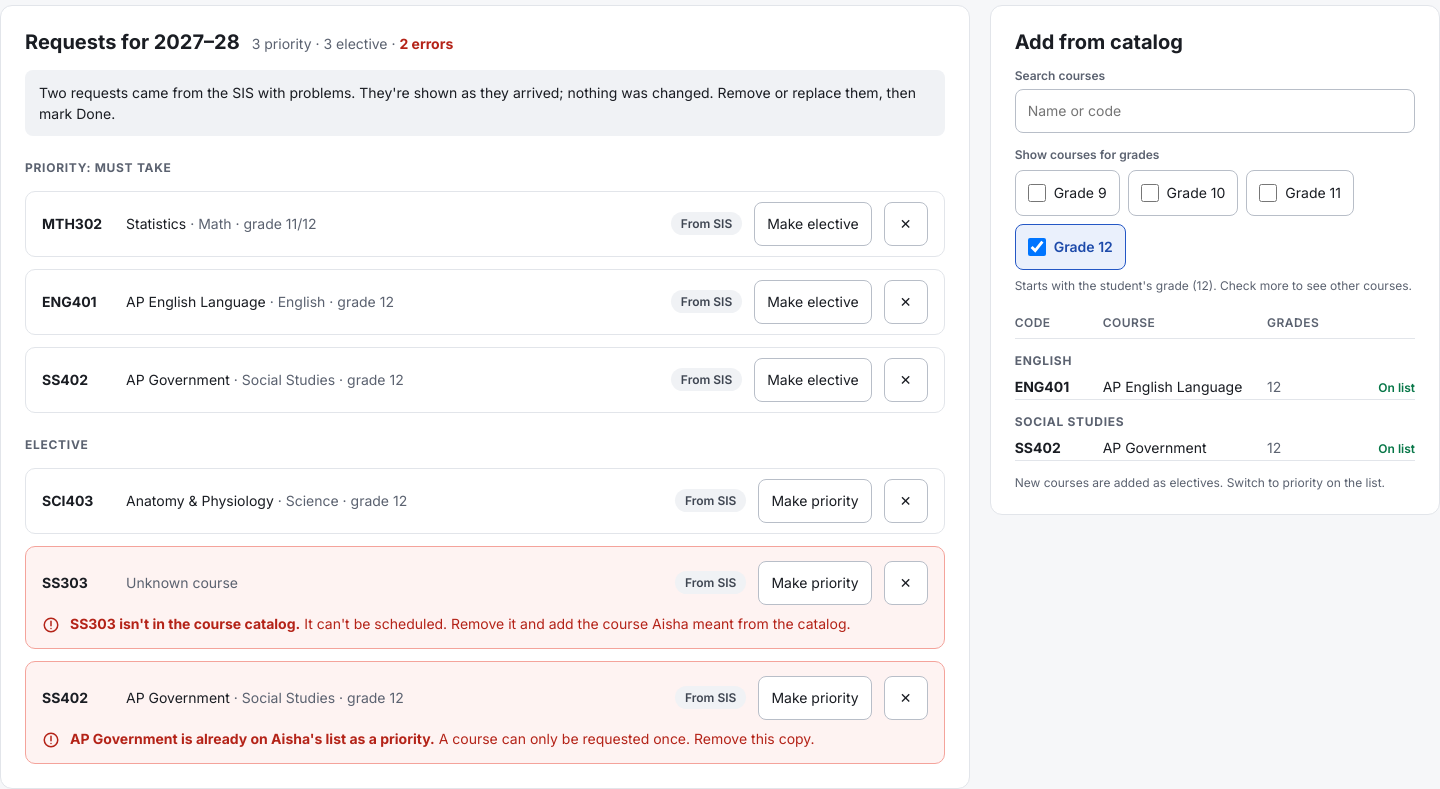
Aisha: removing the SS402 elective copy removes that row by ID and leaves 1 error
(page scrolled)
Click the button named "Remove the elective copy of SS402 AP Government".
click(906, 698)  # box x1=884 y1=676 x2=928 y2=720
(page scrolled)
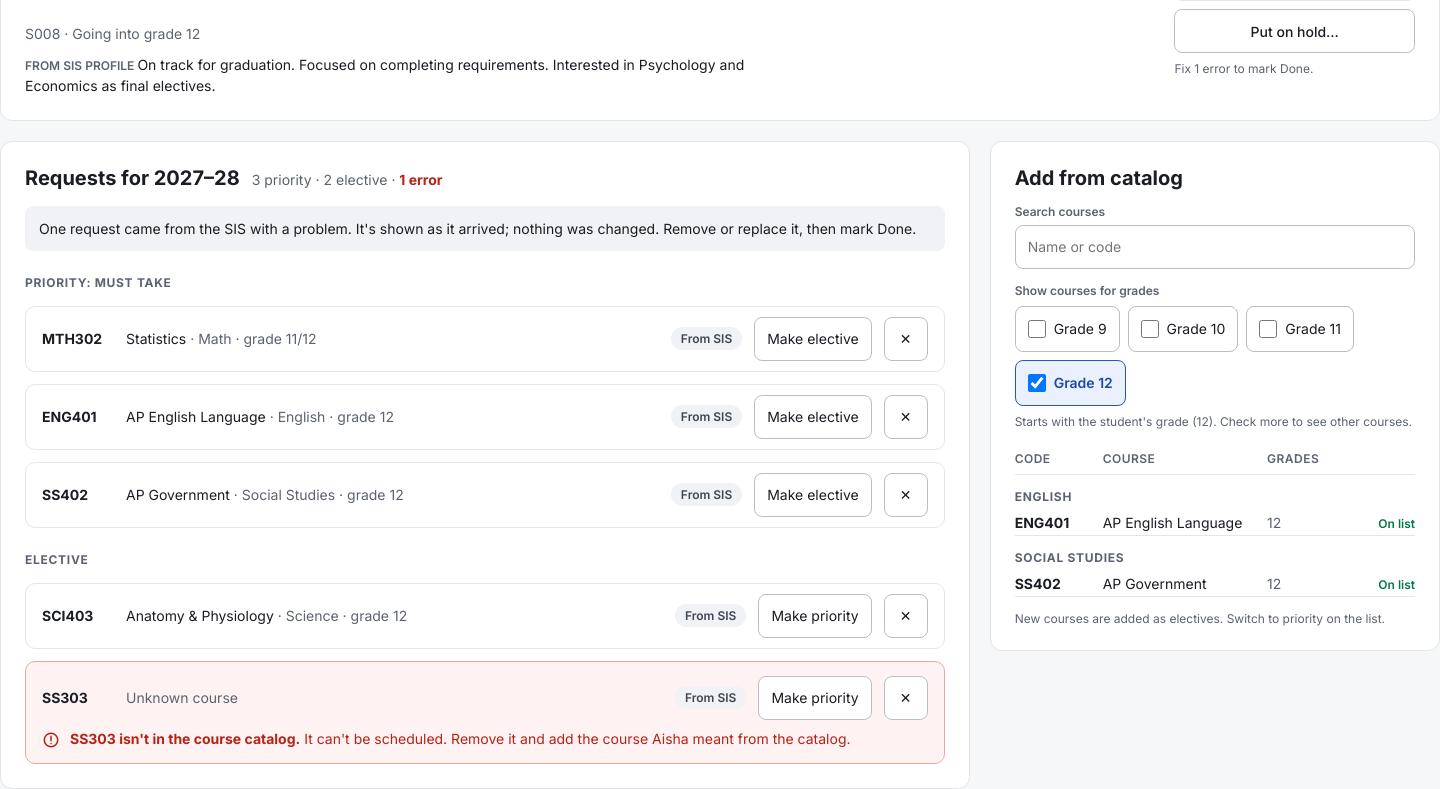
Result: the number of list items with test id "request-SS402" is 1 at x1=25 y1=462 x2=945 y2=528
Result: the element "Requests for 2027–28" shows "3 priority · 2 elective · 1 error" at x1=0 y1=141 x2=970 y2=788
